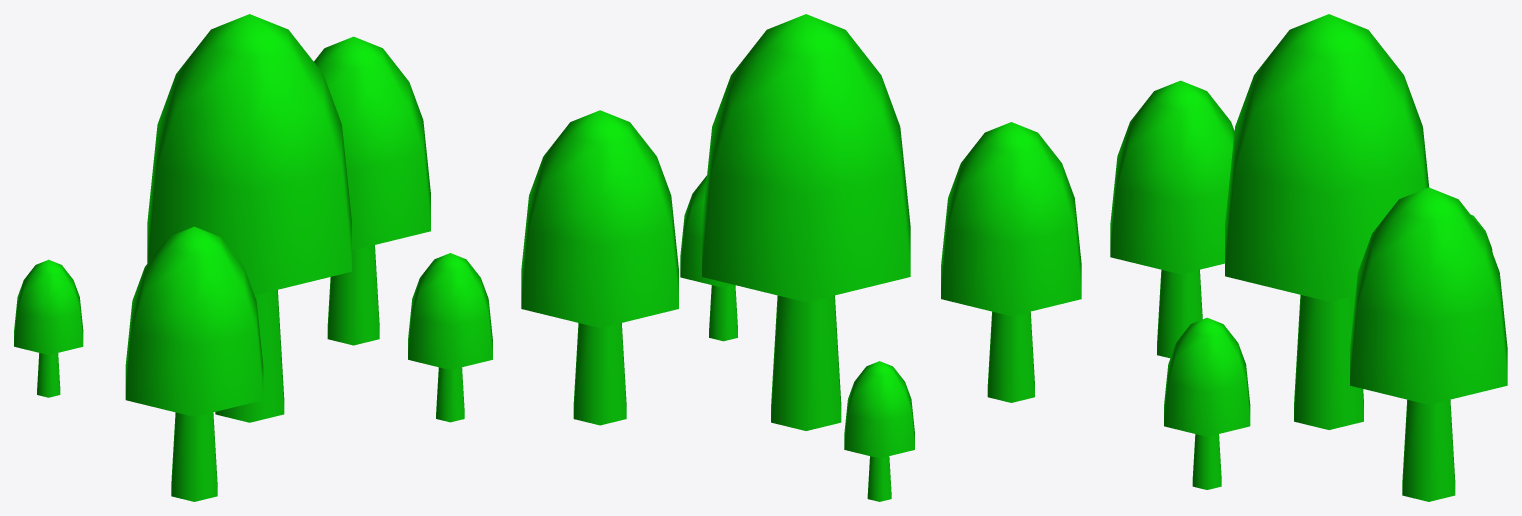
The model's file is m_mushroom3.fbx.
3 renders of one model, left to right at view 1: azimuth 30°, elevation 25°; view 2: azimuth 150°, elevation 25°; view 3: azimuth 270°, elevation 25°, orthographic. The views are drawn at different scales.
Parts seen in each view (by area): view 1: m_mushroom3; view 2: m_mushroom3; view 3: m_mushroom3.
Part boxes in pixels (box(x1,y1,x2,y2)): m_mushroom3: box(14, 14, 492, 501); m_mushroom3: box(521, 14, 1081, 501); m_mushroom3: box(1110, 14, 1507, 501).
Size of the model in its own units: 1.73 by 1.52 by 1.37.
